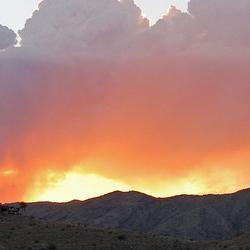fire: (45, 174, 119, 198)
